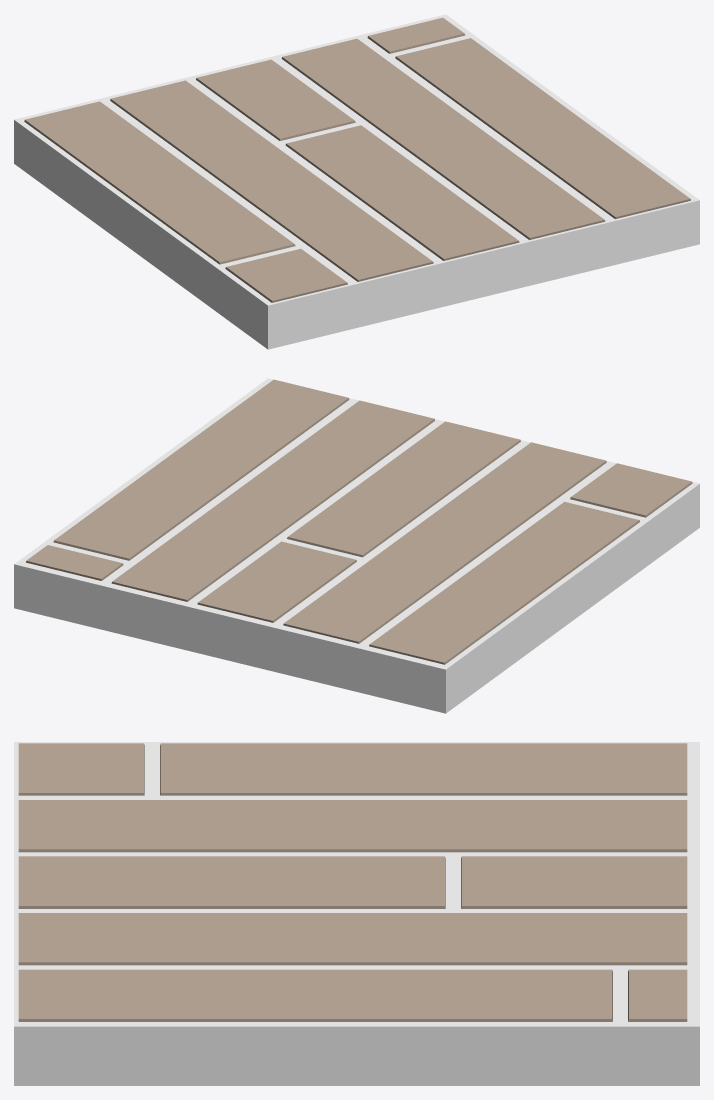
File: modular_village_wood_floor_2.glb
The picture shows the model from 3 angles, top to bottom: view 1: azimuth 30°, elevation 25°; view 2: azimuth 150°, elevation 25°; view 3: azimuth 270°, elevation 25°; orthographic projection. The views are drawn at different scales.
Parts seen in each view (by area): view 1: object1, Cube; view 2: object1, Cube; view 3: object1, Cube.
Boxes of the visible parts, box(x1,y1,x2,y2) form: object1: box(24, 17, 690, 302); Cube: box(14, 14, 699, 349); object1: box(26, 379, 692, 664); Cube: box(14, 378, 699, 713); object1: box(18, 743, 687, 1021); Cube: box(14, 742, 699, 1085).
Bounding box in the file's own units: 1.01 × 0.1024 × 1.03.
